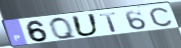6: (25, 19, 51, 43), (124, 9, 148, 31)
C: (148, 6, 174, 27)
Q: (48, 16, 79, 40)
T: (98, 12, 119, 33)
U: (70, 13, 101, 38)
